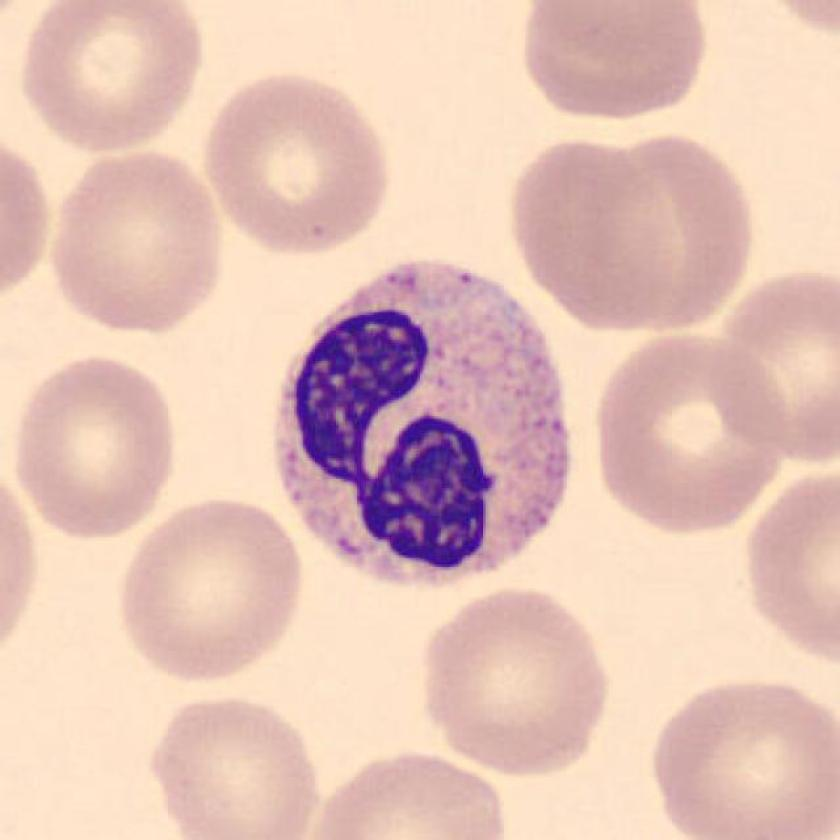neutrophil: (274, 262, 568, 580)
